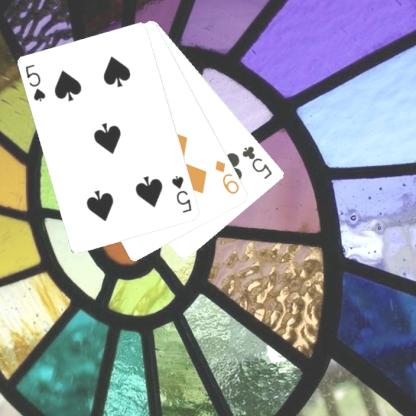5C: (240, 143, 274, 181)
5S: (22, 61, 48, 104), (169, 173, 194, 215)
9D: (212, 157, 241, 196)
